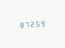eight: (18, 21, 23, 28)
five: (36, 19, 41, 27)
nine: (42, 19, 47, 26)
seven: (24, 20, 29, 28)
two: (30, 20, 35, 27)
